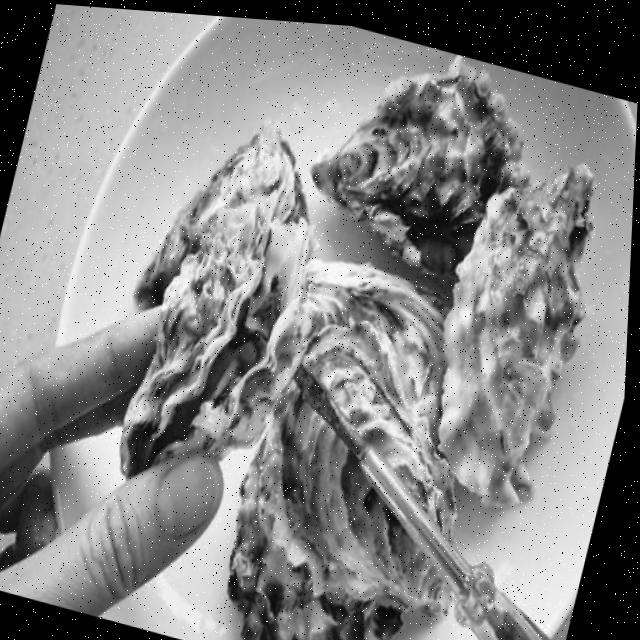Oyster-Indeterminate: (230, 381, 450, 640), (440, 167, 595, 507), (312, 59, 523, 274), (292, 261, 456, 531)
Oyster-Open: (121, 125, 315, 476)
